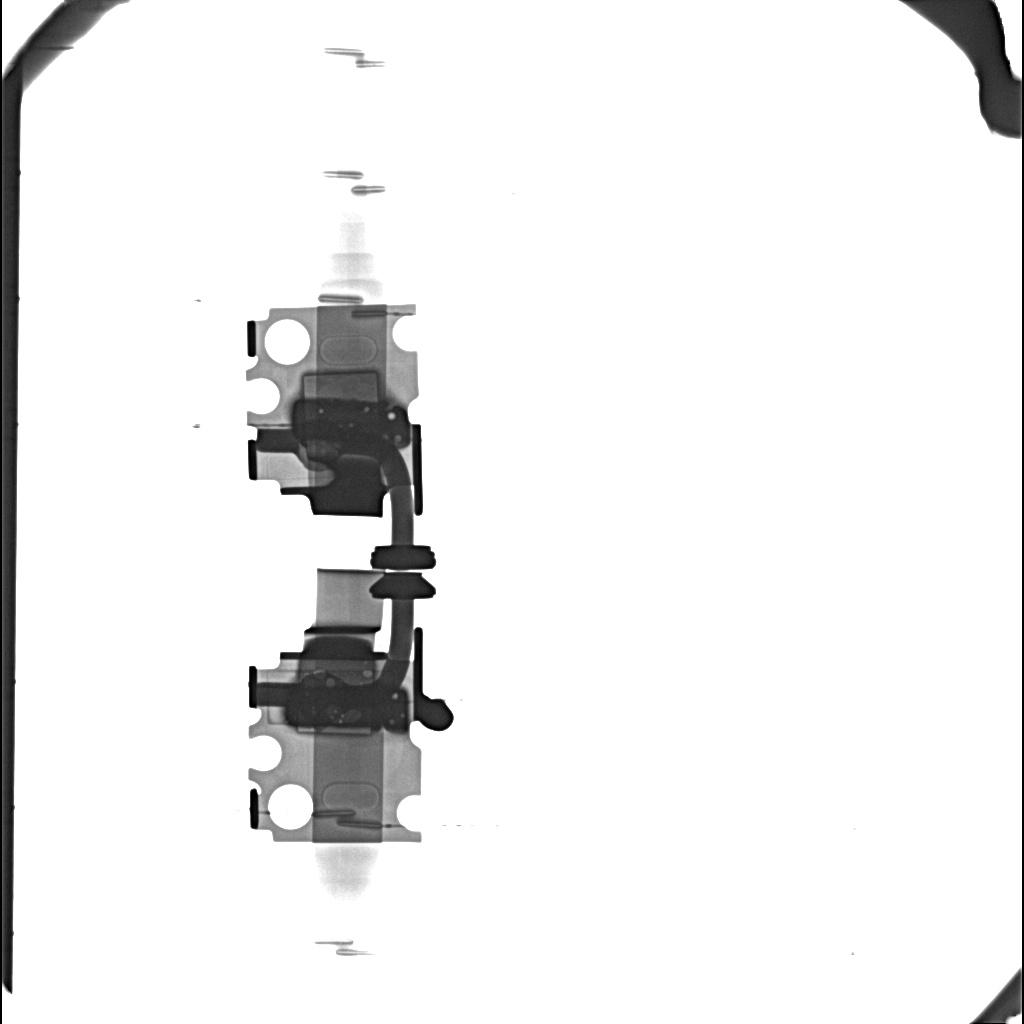defect: (294, 397, 409, 447), (284, 687, 407, 727), (301, 371, 380, 398), (296, 728, 373, 737), (363, 669, 373, 678)
